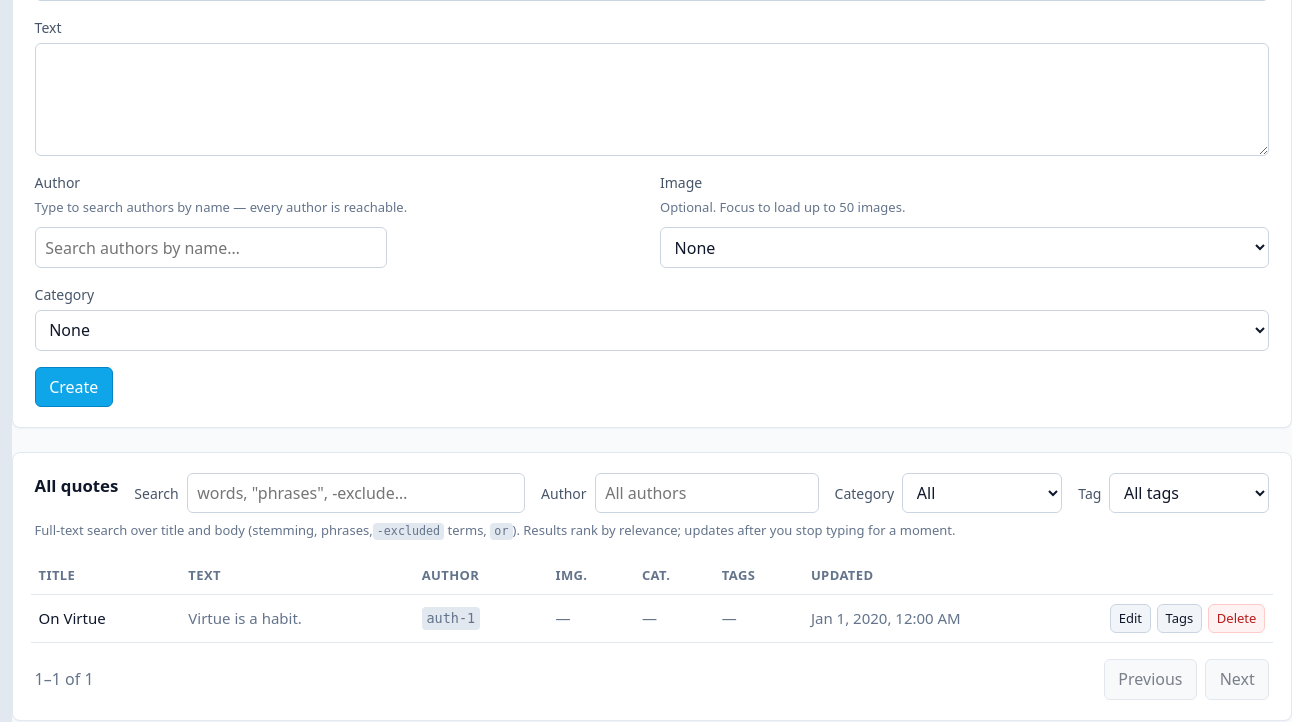
Scenario: QuotesPage › tag management › surfaces child-422 (tag gone), clears the stale id, and disables Add
(page scrolled)
Expected: the link "On Virtue" is shown, top-left (39, 608), bottom-right (106, 628)
Click the button with aria-label "manage tags for on virtue": point(1179, 619) top-left (1157, 604), bottom-right (1202, 633)
(page scrolled)
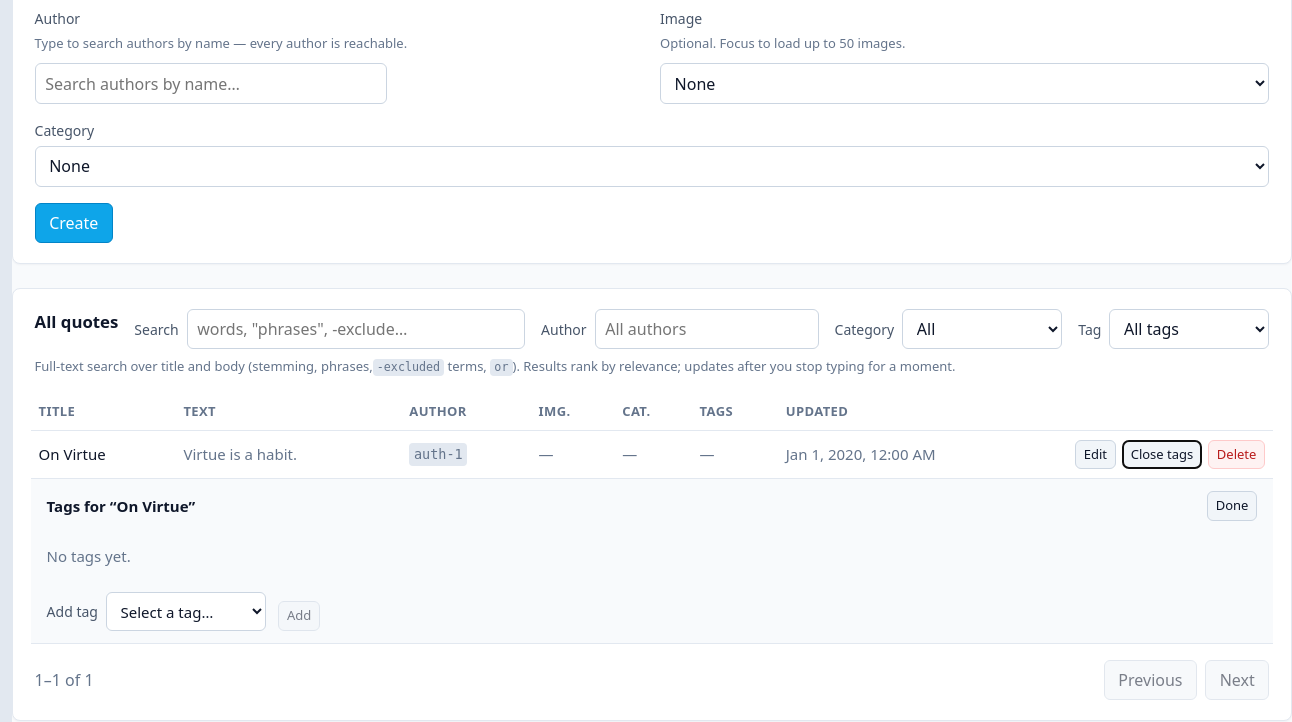
Select "wisdom" in the dropdown named "add tag to on virtue": point(186, 612) top-left (106, 592), bottom-right (266, 631)
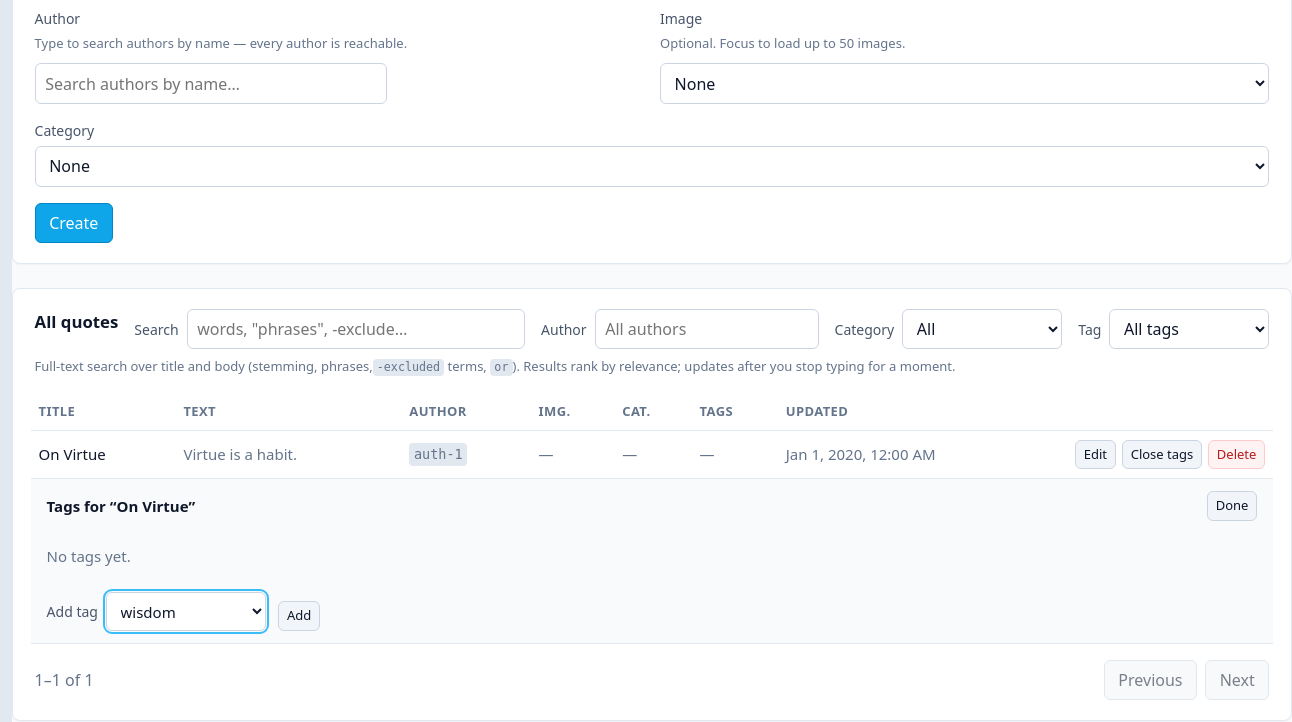
Expected: the button "Add" is enabled
Click the button "Add": point(299, 616) top-left (278, 601), bottom-right (320, 631)
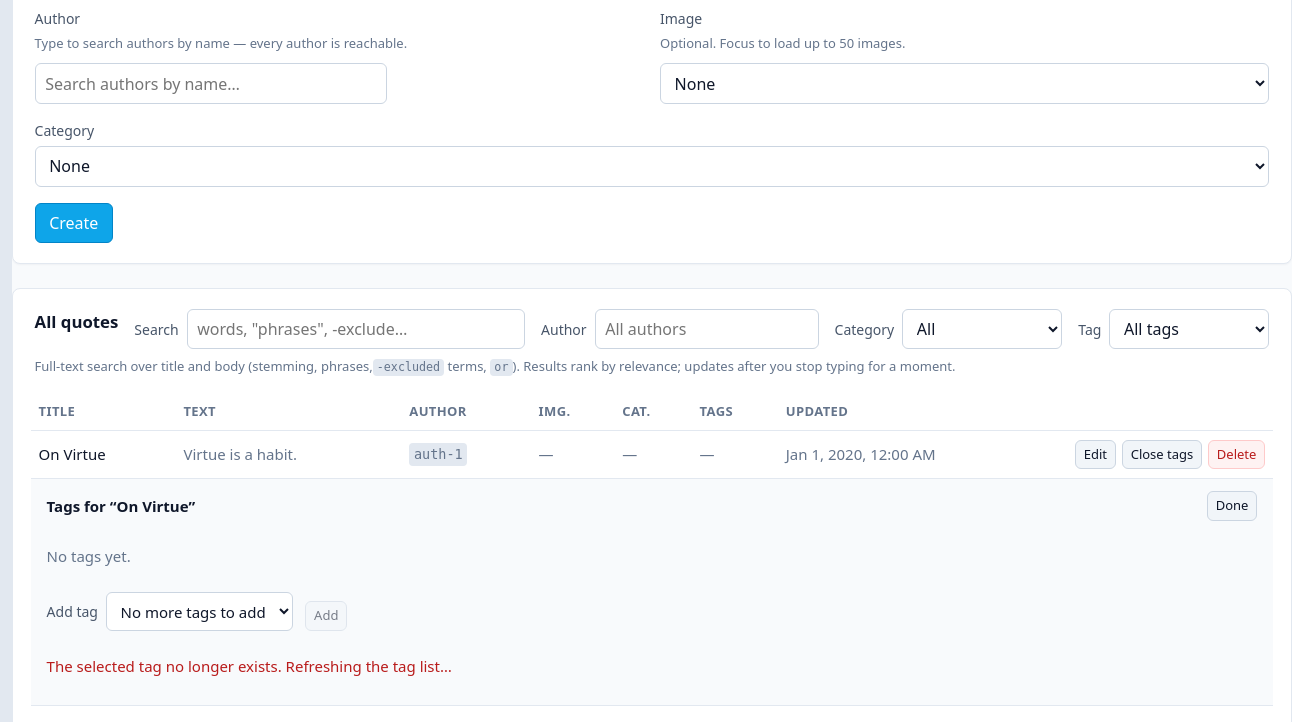
Expected: the text "The selected tag no longer exists. Refreshing the tag list…" is shown, top-left (47, 656), bottom-right (452, 676)
Expected: the button "Add" is disabled, top-left (305, 601), bottom-right (347, 631)
